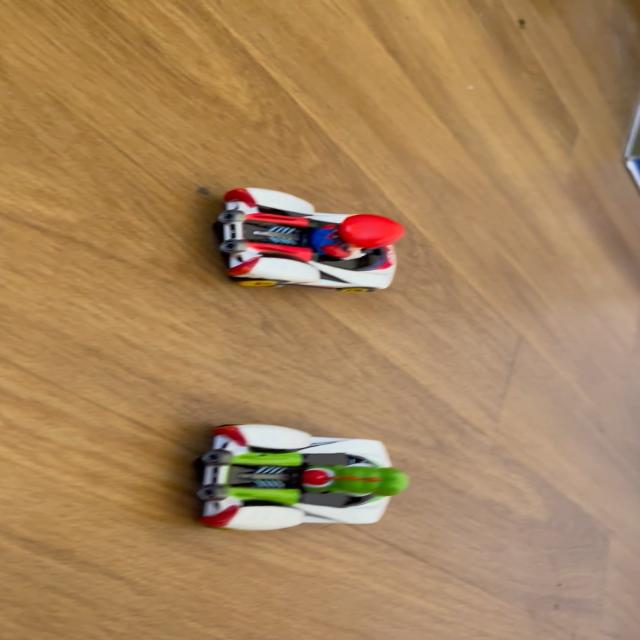mario: (201, 183, 427, 302)
yoshi: (171, 411, 425, 534)
